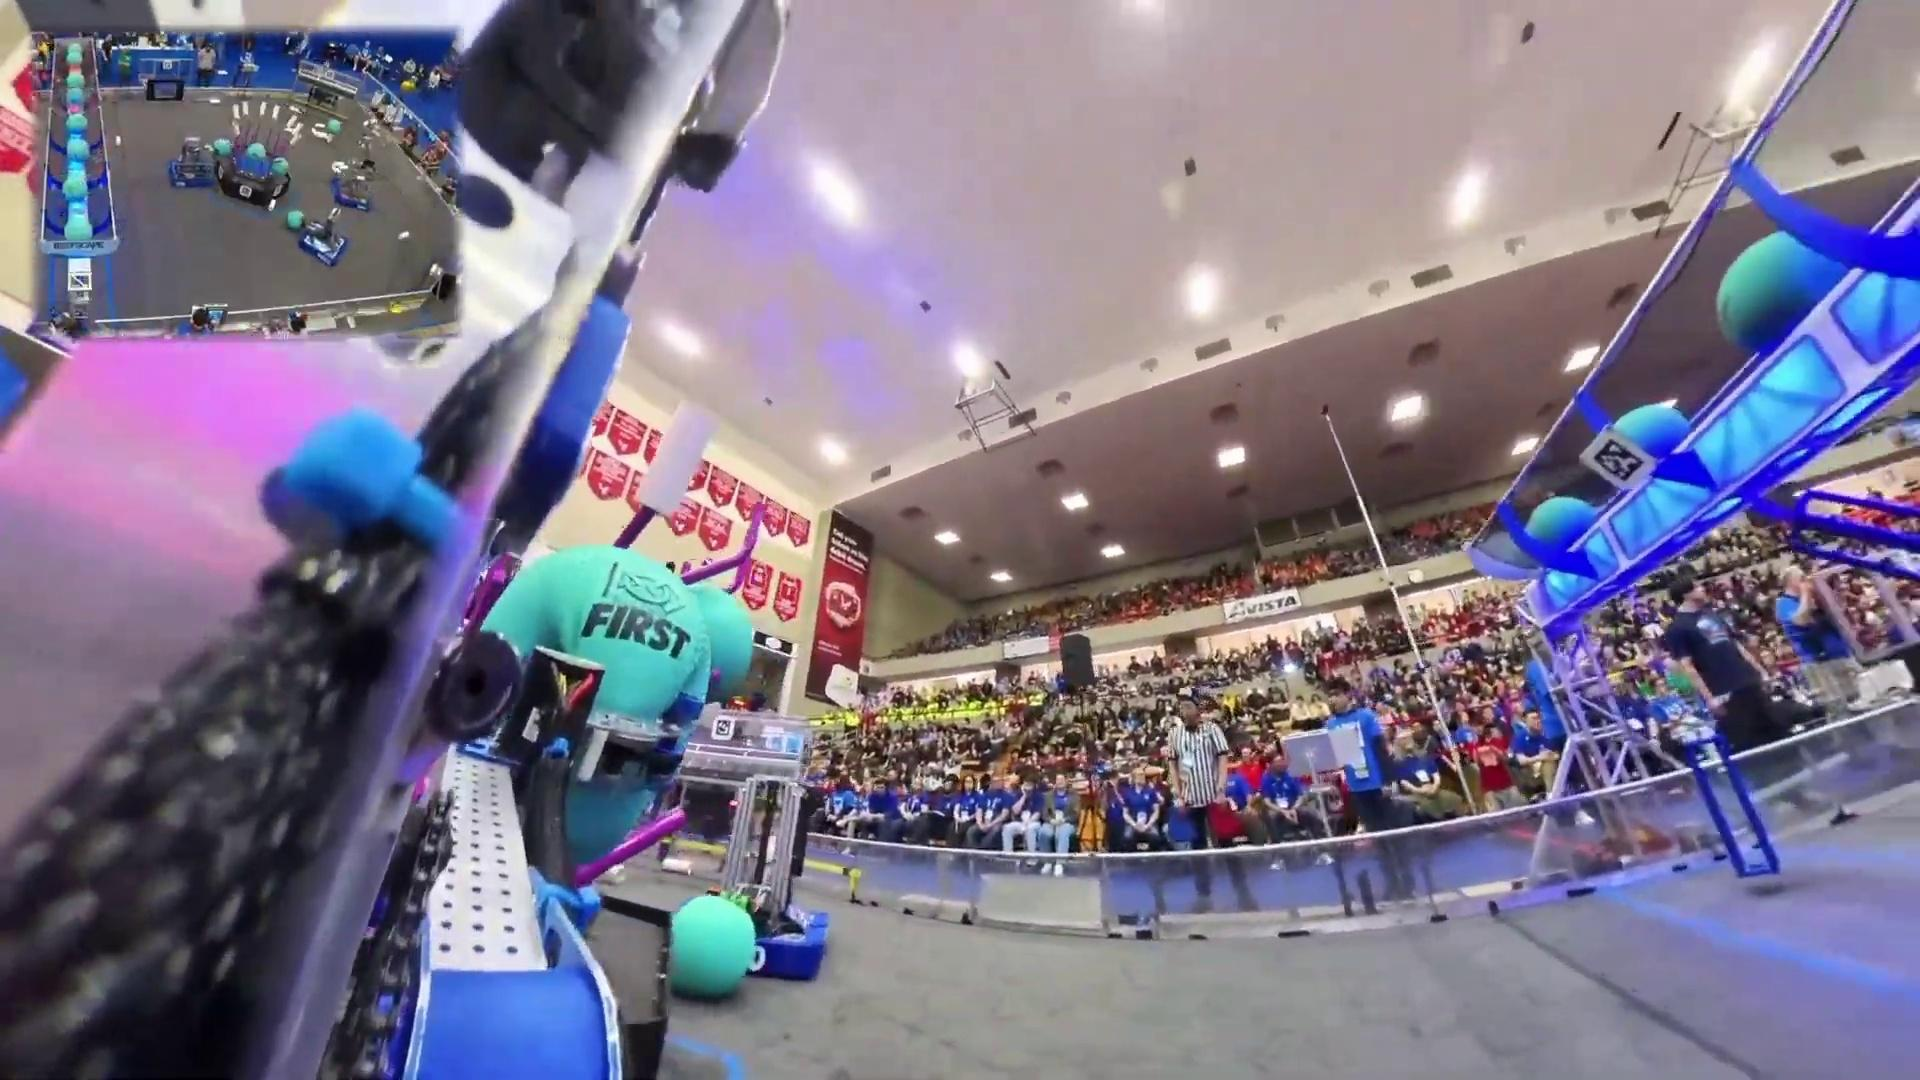robot: (712, 782, 828, 984), (298, 212, 349, 269), (169, 133, 219, 190), (330, 154, 377, 212)
